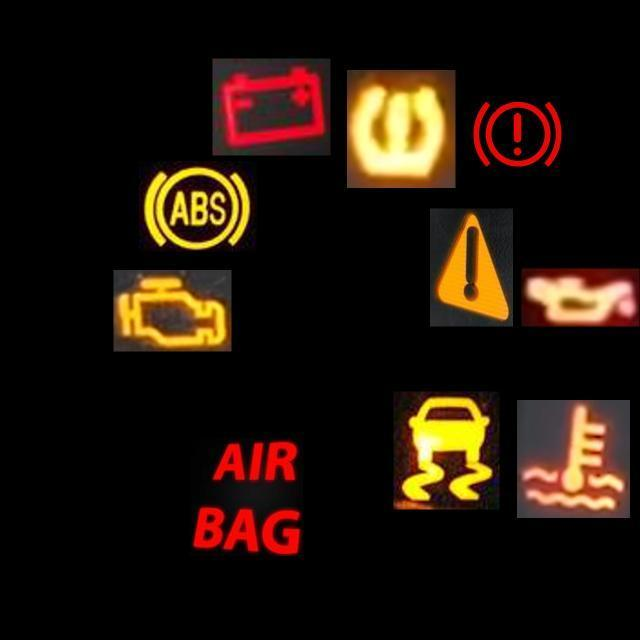Central Warning lamp: (430, 208, 513, 326)
Engine cooling system: (517, 400, 630, 518)
